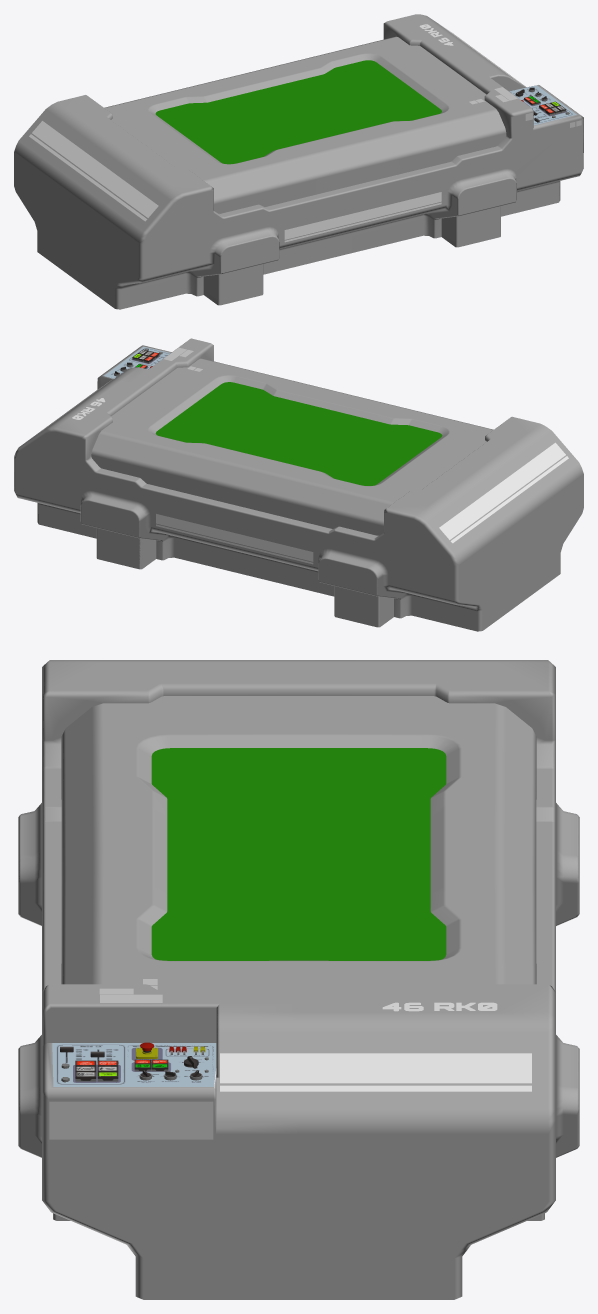
Rendered from Prop_31.fbx.
The picture shows the model from 3 angles, top to bottom: view 1: azimuth 30°, elevation 25°; view 2: azimuth 150°, elevation 25°; view 3: azimuth 270°, elevation 25°; orthographic projection. The views are drawn at different scales.
Visible parts, largest first — view 1: Prop_31, LOD_0.103, LOD_0.102; view 2: Prop_31, LOD_0.103; view 3: Prop_31, LOD_0.103, LOD_0.102.
Part boxes in pixels (left/top/right/bottom): Prop_31: left=14, top=14, right=583, bottom=309; LOD_0.103: left=532, top=101, right=573, bottom=124; LOD_0.102: left=511, top=87, right=550, bottom=107; Prop_31: left=14, top=338, right=583, bottom=631; LOD_0.103: left=128, top=348, right=169, bottom=365; Prop_31: left=18, top=660, right=579, bottom=1299; LOD_0.103: left=56, top=1044, right=125, bottom=1084; LOD_0.102: left=128, top=1042, right=213, bottom=1083.
Size of what is drawn, in the model's own units: 4 by 1.05 by 2.18.
